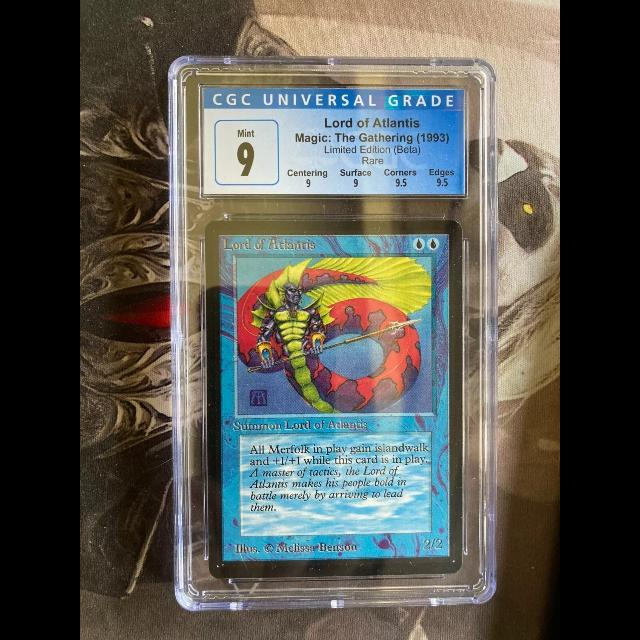card: (203, 219, 464, 579)
cgc_label_old: (202, 86, 466, 195)
cgc_slab: (166, 55, 497, 613)
